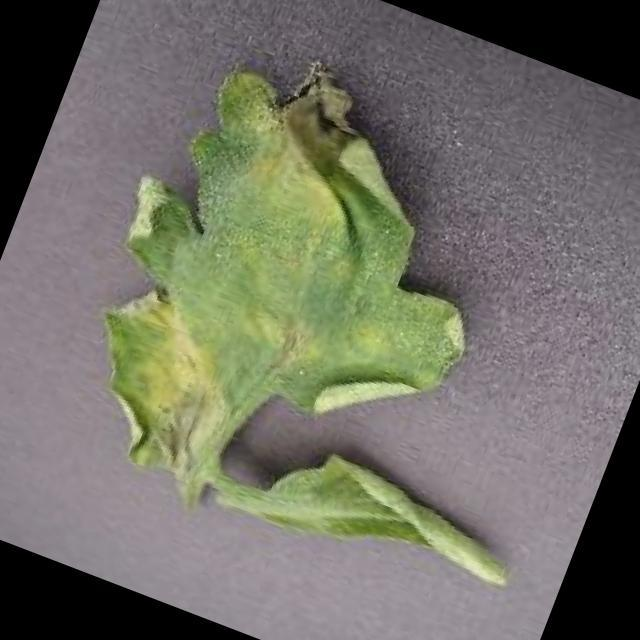Tomato late blight leaf: (26, 5, 640, 617)
